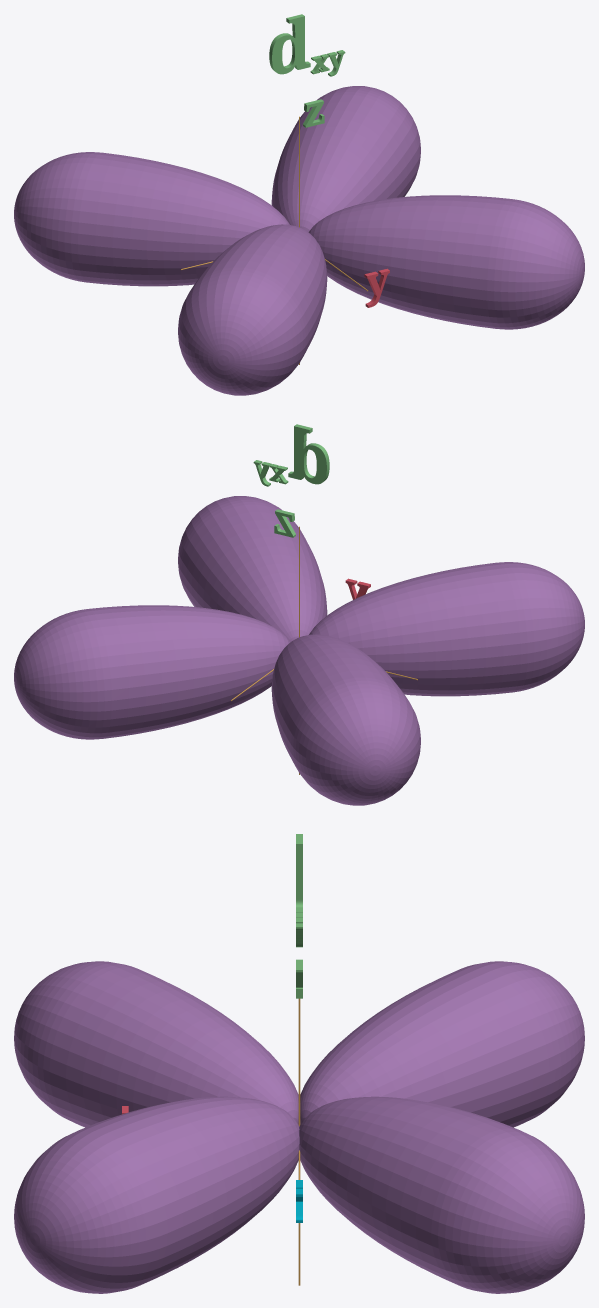
File: dxy orbital updated.glb
The picture shows the model from 3 angles, top to bottom: view 1: azimuth 30°, elevation 25°; view 2: azimuth 150°, elevation 25°; view 3: azimuth 270°, elevation 25°; orthographic projection. The views are drawn at different scales.
Parts seen in each view (by area): view 1: Mesh_Mesh_head_geo.001_lambert2SG.001; view 2: Mesh_Mesh_head_geo.001_lambert2SG.001; view 3: Mesh_Mesh_head_geo.001_lambert2SG.001.
Part boxes in pixels (box(x1,y1,x2,y2)): Mesh_Mesh_head_geo.001_lambert2SG.001: box(14, 14, 584, 395); Mesh_Mesh_head_geo.001_lambert2SG.001: box(14, 424, 584, 805); Mesh_Mesh_head_geo.001_lambert2SG.001: box(14, 834, 584, 1293).
Size of the model in its own units: 81.96 by 70.34 by 81.96.
